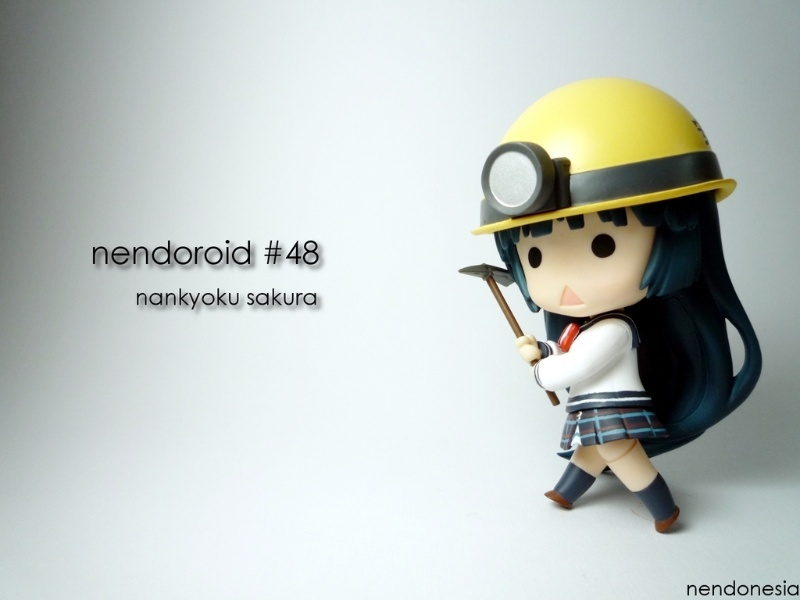baret: (471, 79, 735, 238)
